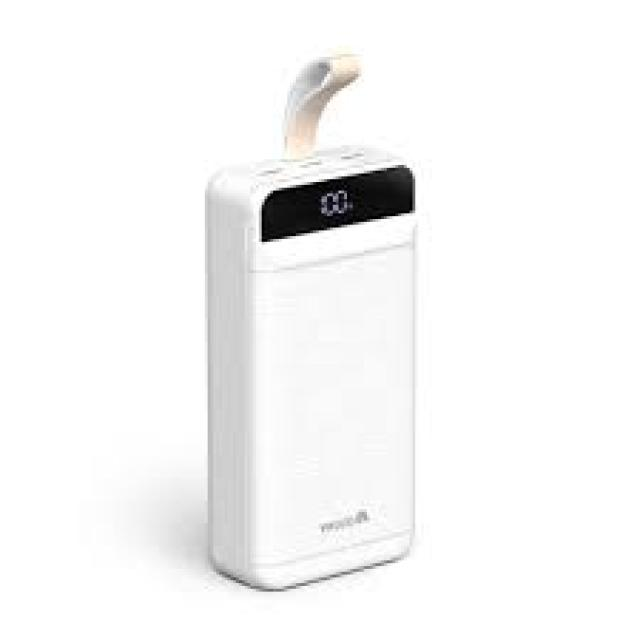power_bank: (204, 148, 424, 590)
